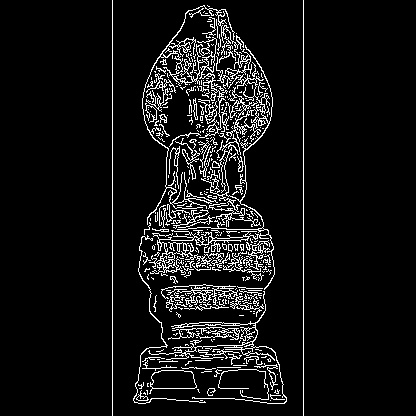buddha-sitting: (142, 206, 210, 283)
